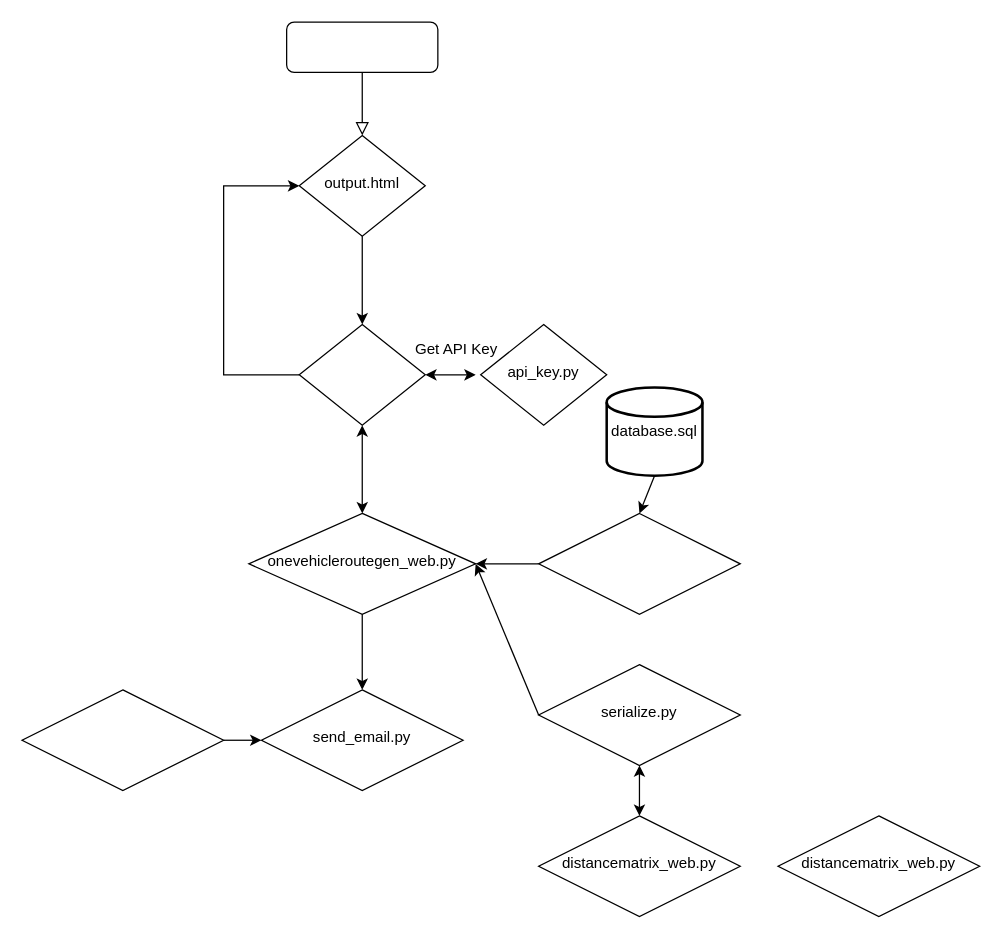
The diagram is 1002 pixels wide and 939 high, and some of its shapes have lost their labels. Each missing label, with the centre of its shape:
"database.py" goes at pixel 638 563.
"email_contents.html" goes at pixel 122 740.
"index.html" goes at pixel 361 46.
"webgui.py" goes at pixel 361 374.
